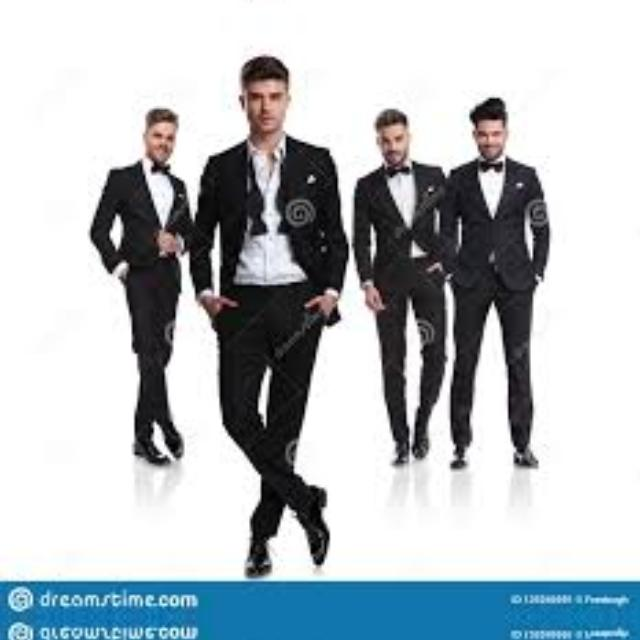person: (451, 98, 582, 482), (338, 105, 456, 468), (91, 104, 207, 466), (200, 54, 352, 328)
